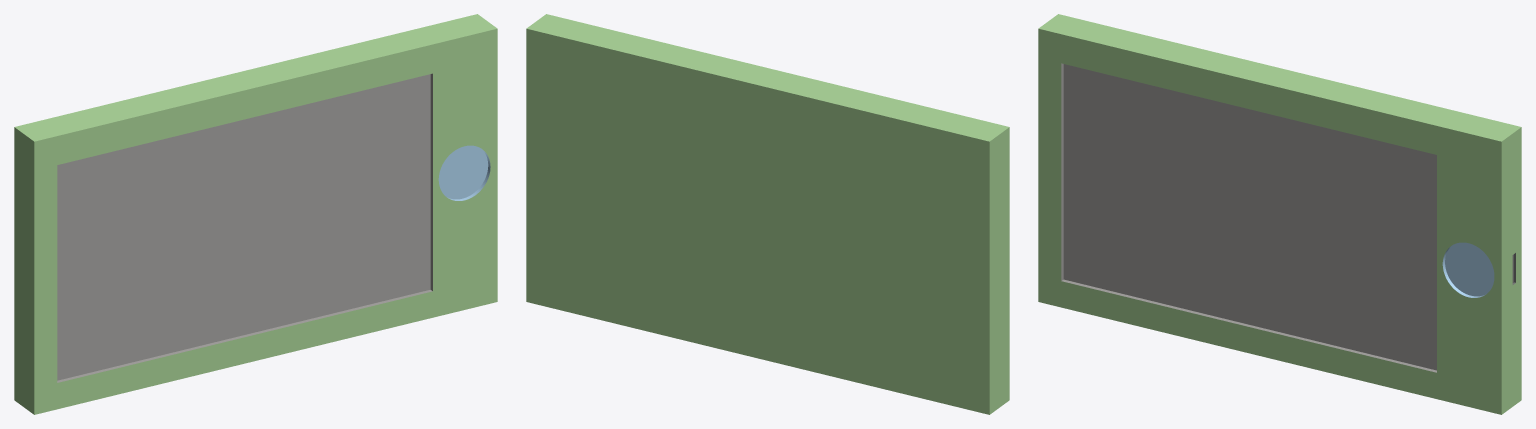
File: phone.dae
3 views of the same model, side by side, from view 1: azimuth 30°, elevation 25°; view 2: azimuth 150°, elevation 25°; view 3: azimuth 330°, elevation 25° (orthographic).
Visible parts, largest first — view 1: Phone; view 2: Phone; view 3: Phone.
Boxes of the visible parts, left/top/right/bottom form: Phone: left=14, top=14, right=497, bottom=414; Phone: left=526, top=14, right=1009, bottom=414; Phone: left=1038, top=14, right=1521, bottom=414.
Bounding box in the file's own units: 23.29 × 1.74 × 13.23.
